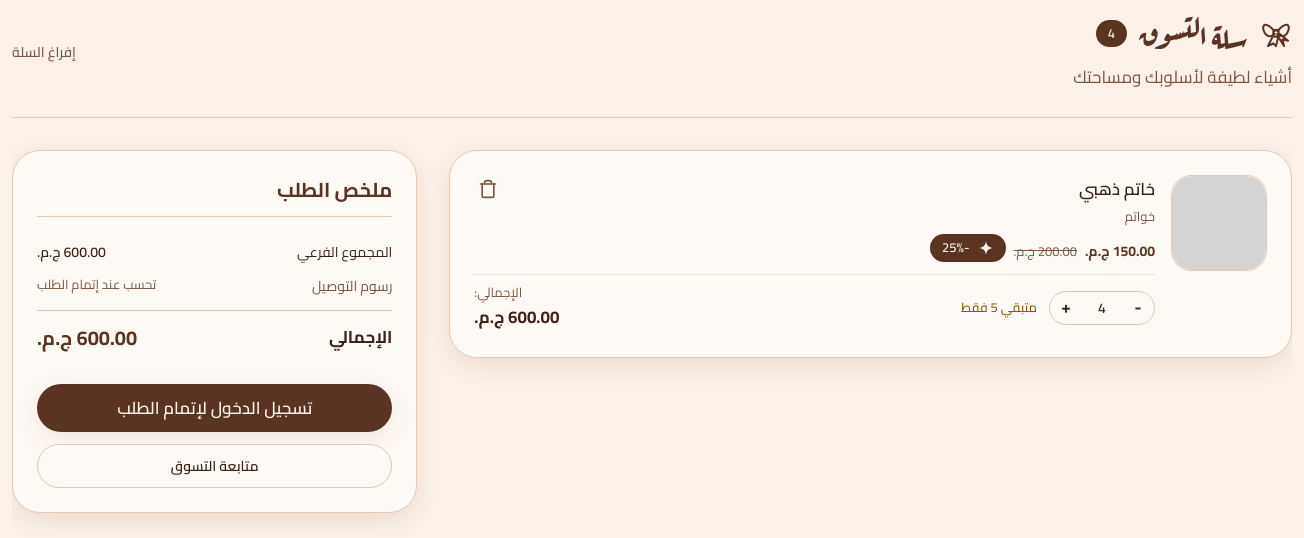
CartPage (T-3.06) › updates quantity via stepper and clamps at max stock
This screenshot has width=1304, height=538.
Increment to 5 (max stock is 5)
Click the button named "زيادة الكمية".
click(1066, 308)  # box [1050,292,1082,324]
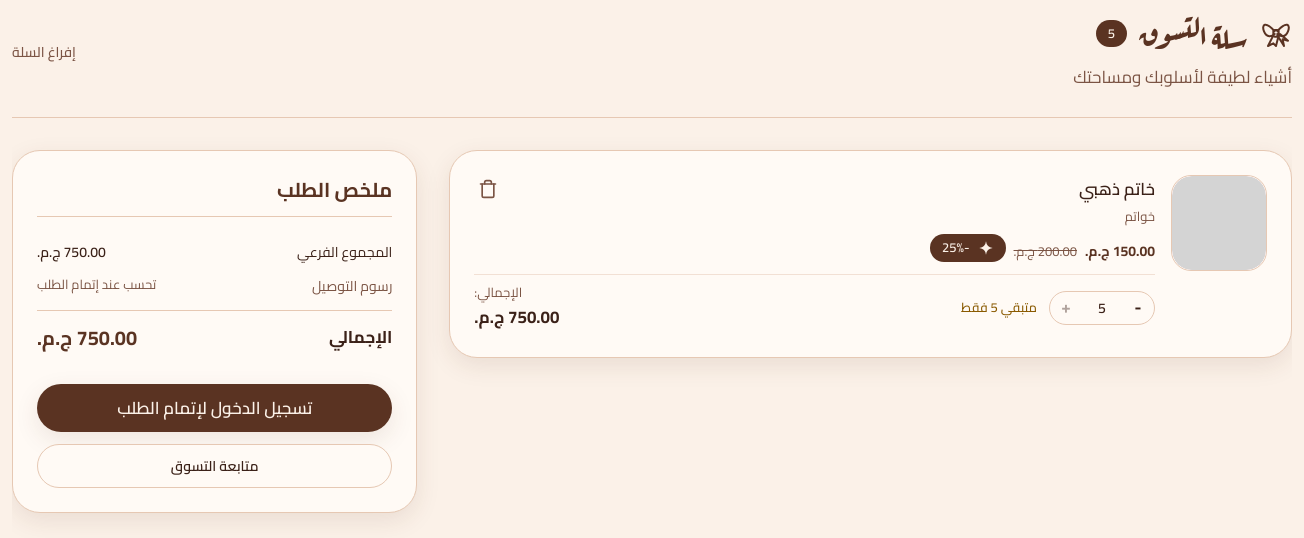
Check: the text named "الكمية: 5" is shown, box [1098,295,1106,321]
Check: the button named "زيادة الكمية" is disabled, box [1050,292,1082,324]
Decrement to 4
Click the button named "تقليل الكمية".
click(1138, 308)  # box [1122,292,1154,324]
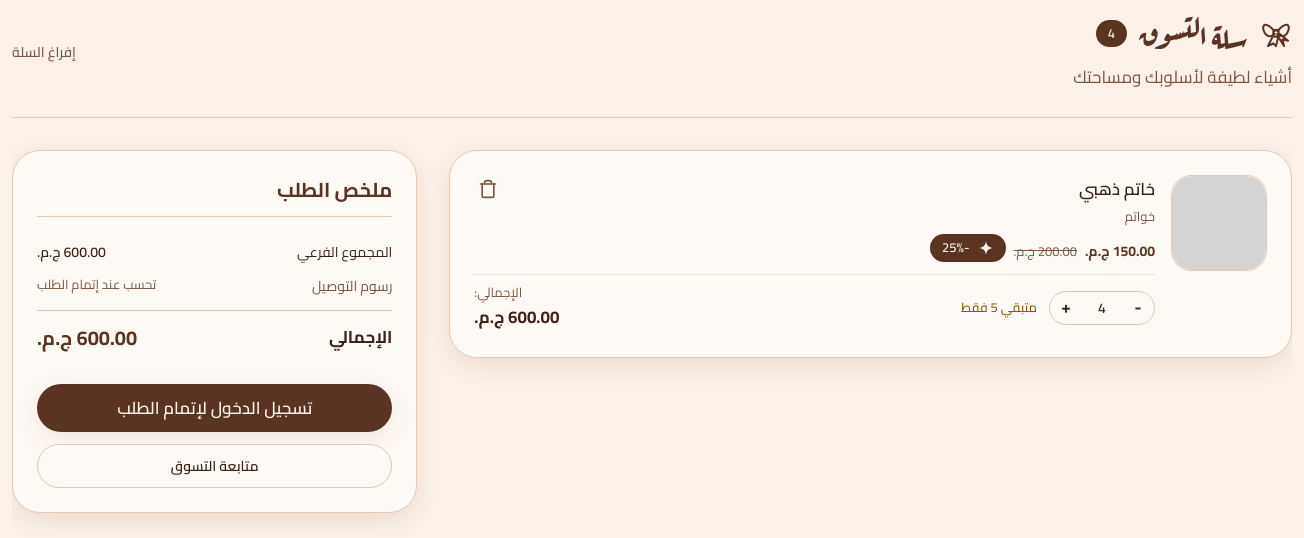
Check: the text named "الكمية: 4" is shown, box [1098,295,1106,321]
Check: the button named "زيادة الكمية" is enabled, box [1050,292,1082,324]
